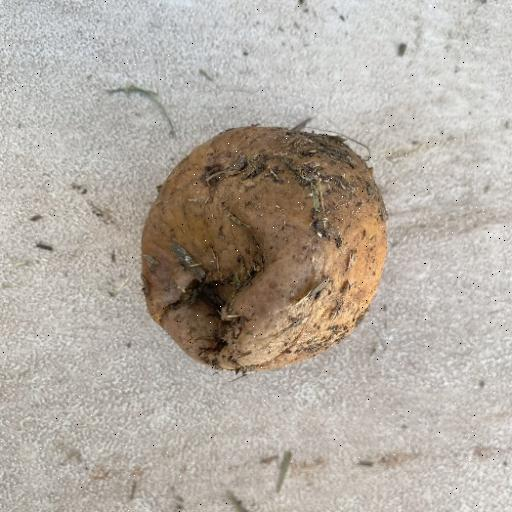Waste: (138, 119, 390, 376)
